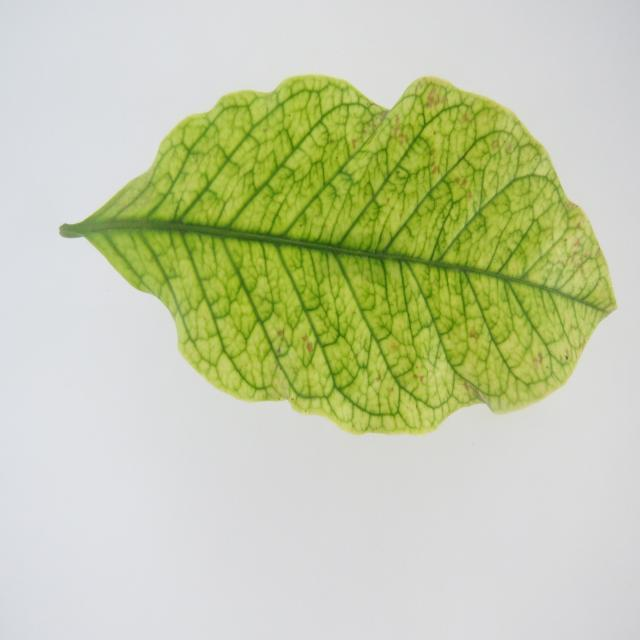DeficienciaNutricional-Hierro: (60, 77, 616, 433)
